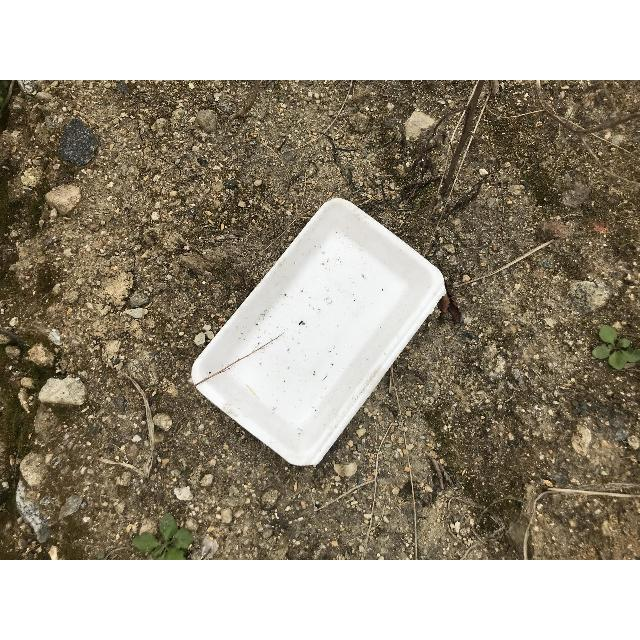Recipiente plastico: (191, 199, 446, 466)
